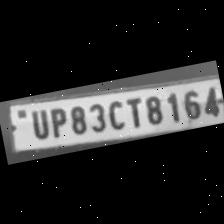1: (160, 88, 184, 124)
3: (84, 97, 107, 133)
4: (198, 80, 224, 118)
6: (176, 85, 203, 121)
8: (139, 90, 167, 127), (64, 100, 90, 136)
C: (102, 95, 128, 131)
P: (43, 103, 70, 138)
T: (120, 93, 146, 129)
U: (23, 104, 52, 140)
